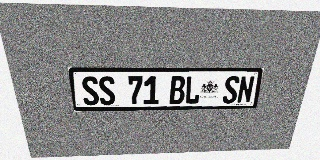1: (143, 76, 159, 105)
7: (127, 76, 143, 105)
B: (169, 76, 186, 104)
L: (184, 76, 201, 104)
N: (236, 76, 255, 103)
S: (81, 76, 100, 105), (98, 76, 116, 105), (222, 76, 240, 103)
